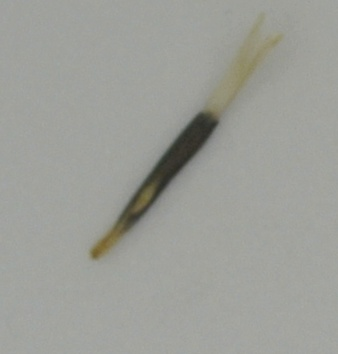เมล็ดงอกแตก: (88, 6, 286, 265)
